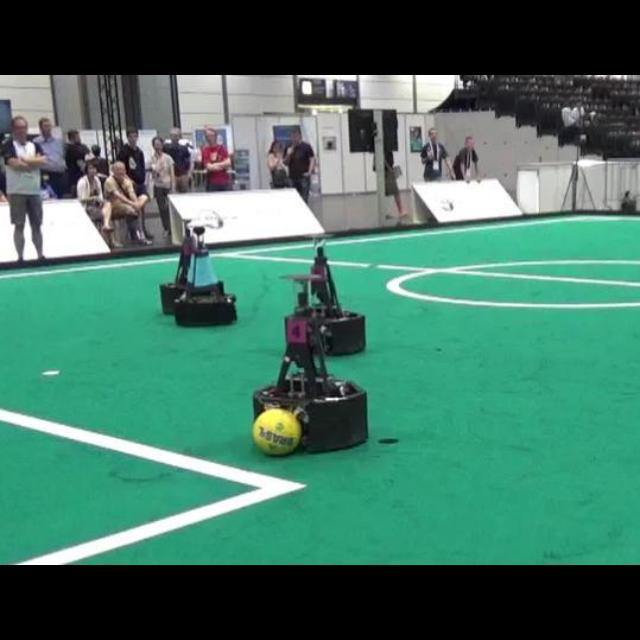ball: (252, 409, 300, 455)
robot: (254, 276, 366, 452), (160, 225, 236, 324), (310, 236, 365, 356)
